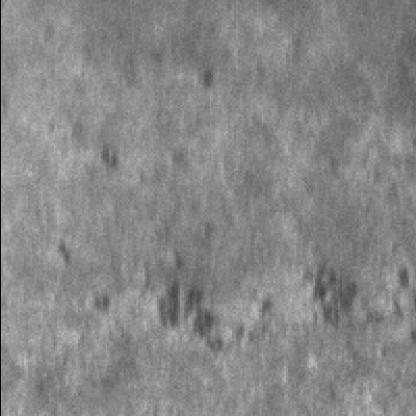rolled-in_scale: (140, 245, 270, 352), (298, 260, 412, 348)
